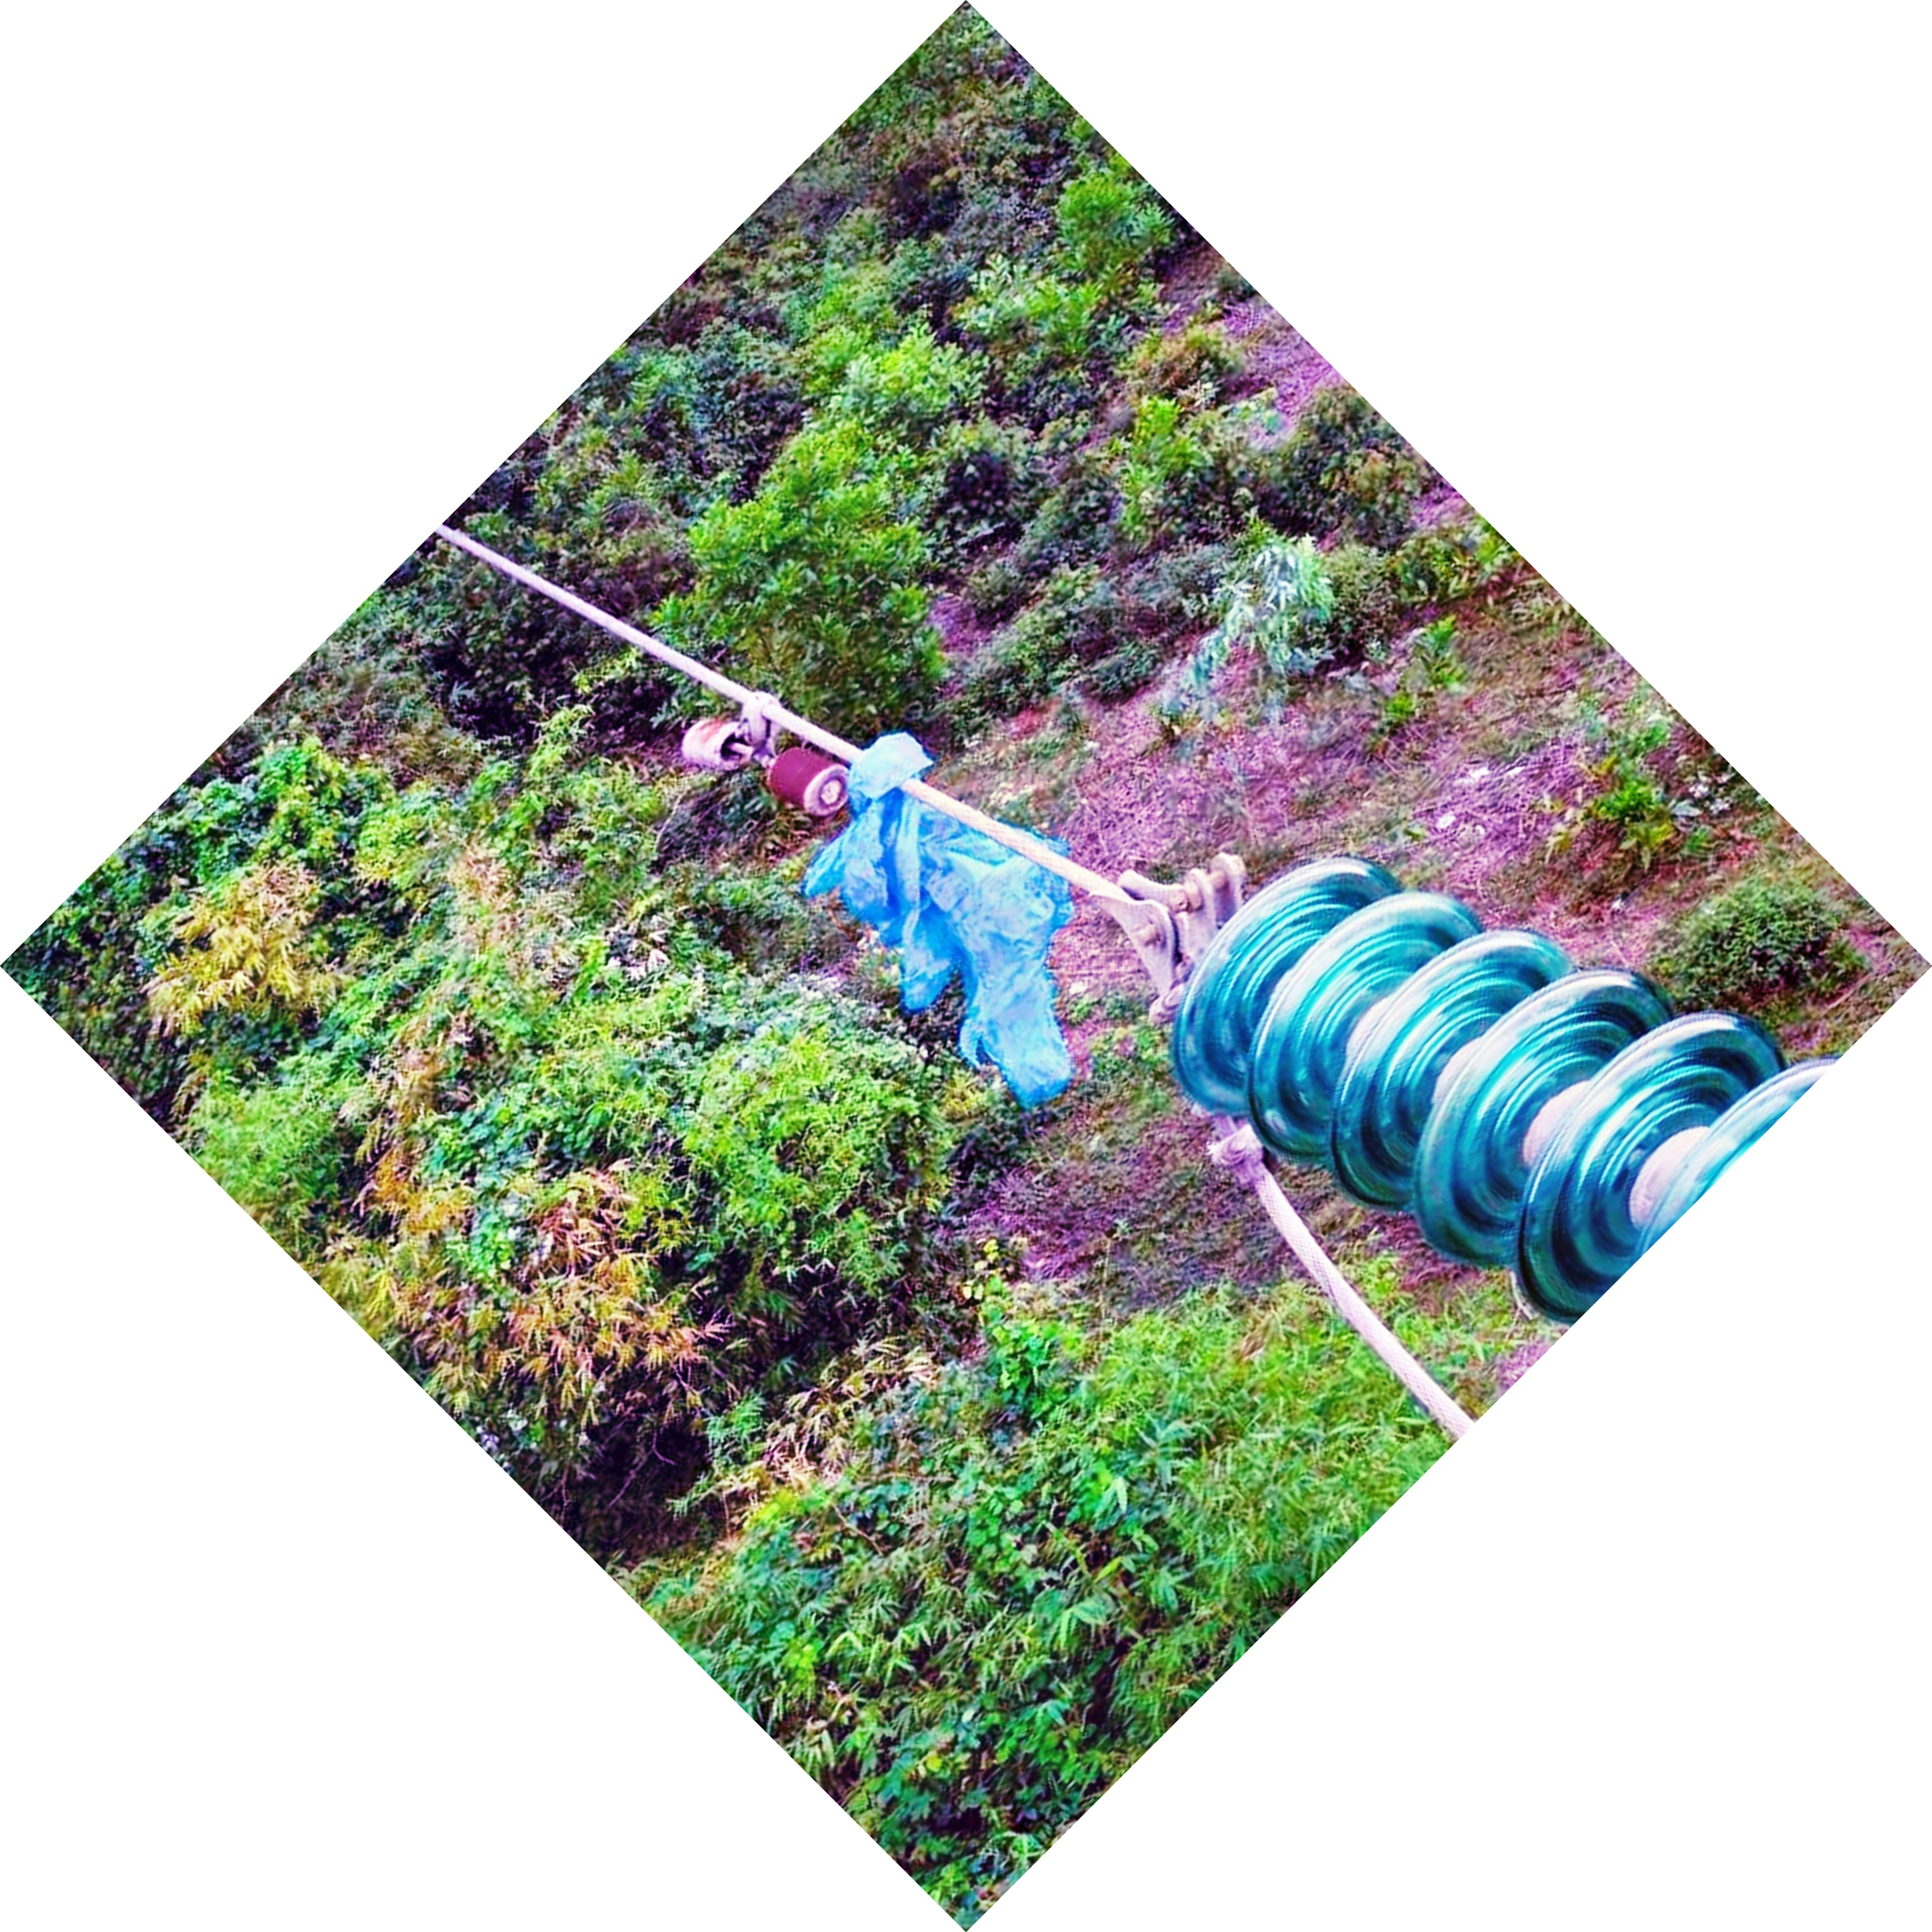wire foreign body: (777, 715, 1122, 1120)
